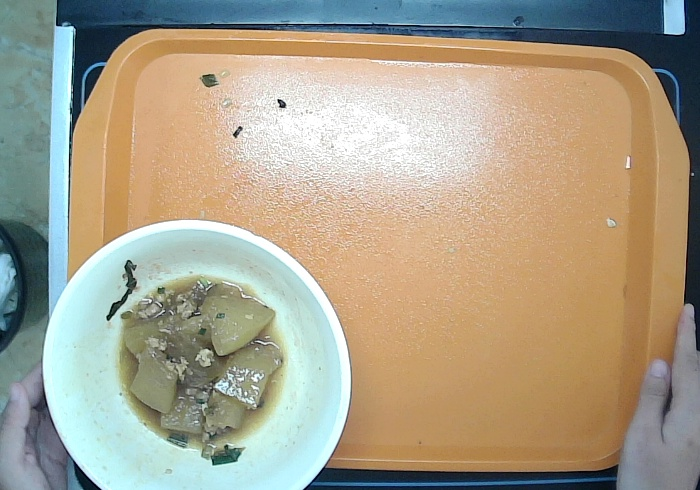ZNLD-Da_Tang_Wan: (34, 213, 355, 490)
